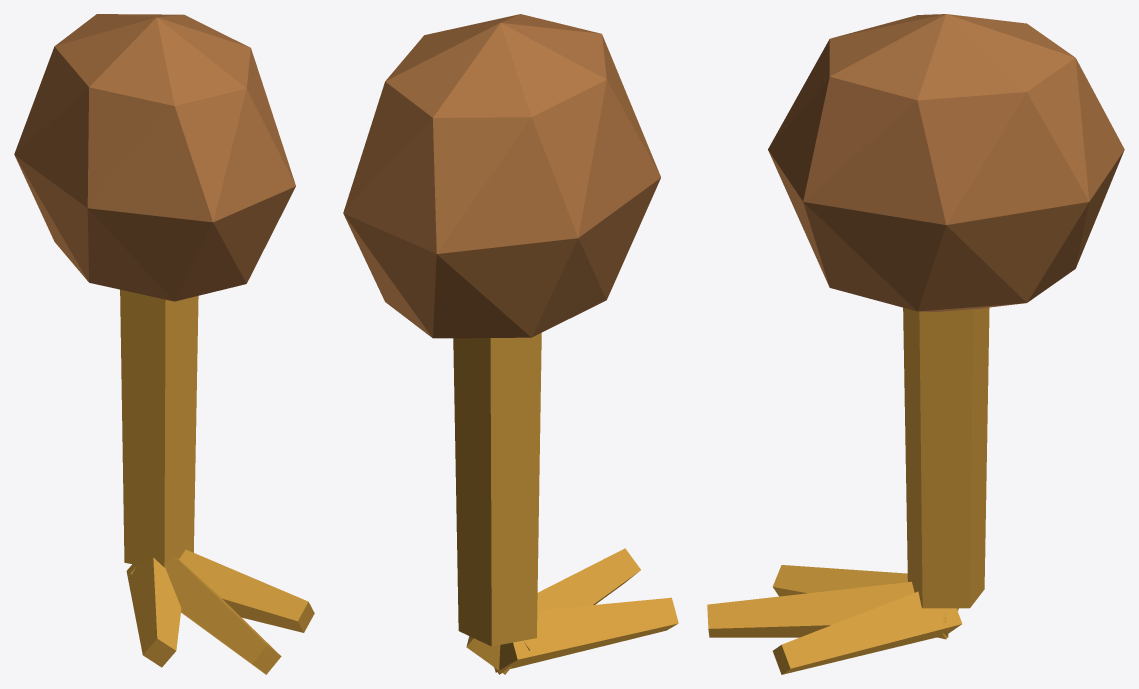
The model's file is chicken_1_leg_r.glb.
3 renders of one model, left to right at view 1: azimuth 30°, elevation 25°; view 2: azimuth 150°, elevation 25°; view 3: azimuth 270°, elevation 25°, orthographic. The views are drawn at different scales.
Parts seen in each view (by area): view 1: chicken_1_leg_r; view 2: chicken_1_leg_r; view 3: chicken_1_leg_r.
Boxes of the visible parts, x1,y1,x2,y2 form: chicken_1_leg_r: (14, 14, 314, 674); chicken_1_leg_r: (343, 14, 678, 674); chicken_1_leg_r: (707, 14, 1124, 674).
Size of the model in its own units: 0.076 by 0.188 by 0.1141.
